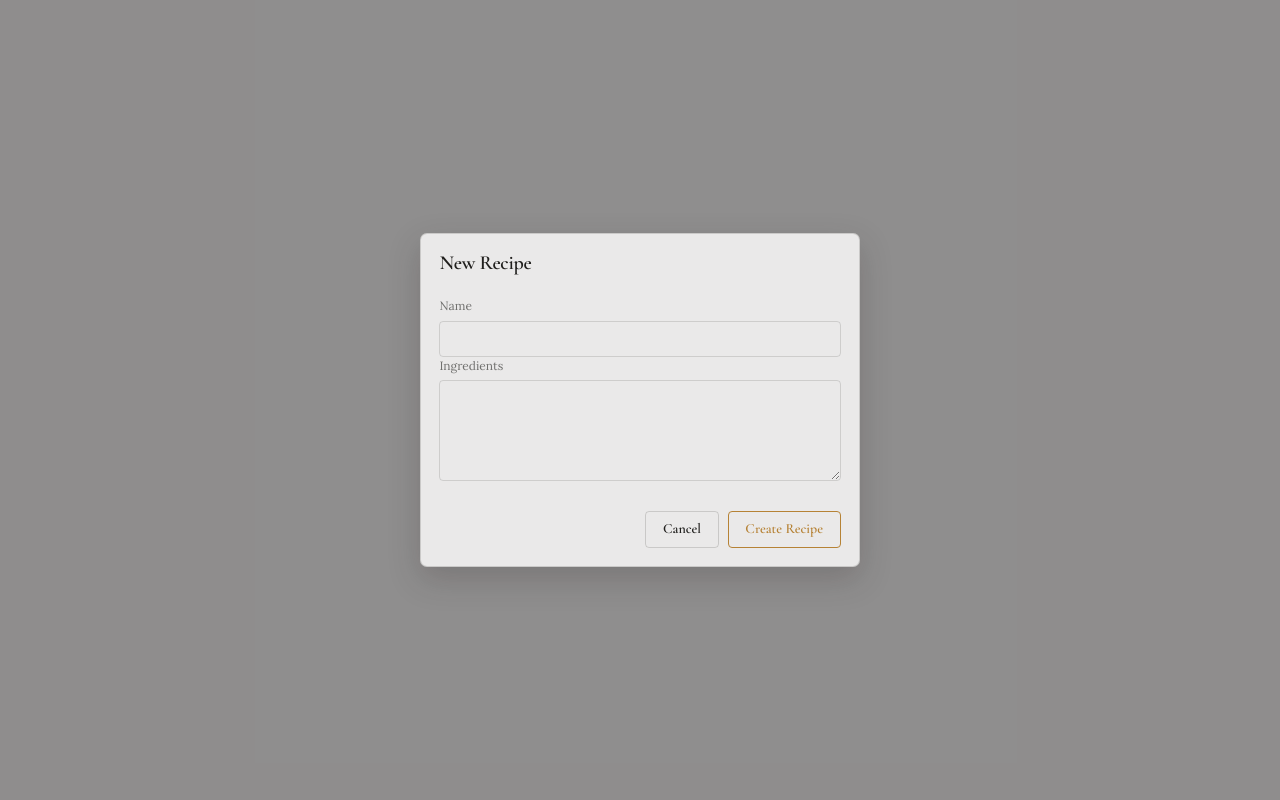
Scenario: NewRecipeModal › requires name and ingredients before submitting
The width and height of the screenshot is (1280, 800).
Click the button "Create Recipe" at [784, 530], box [728,511,841,548]
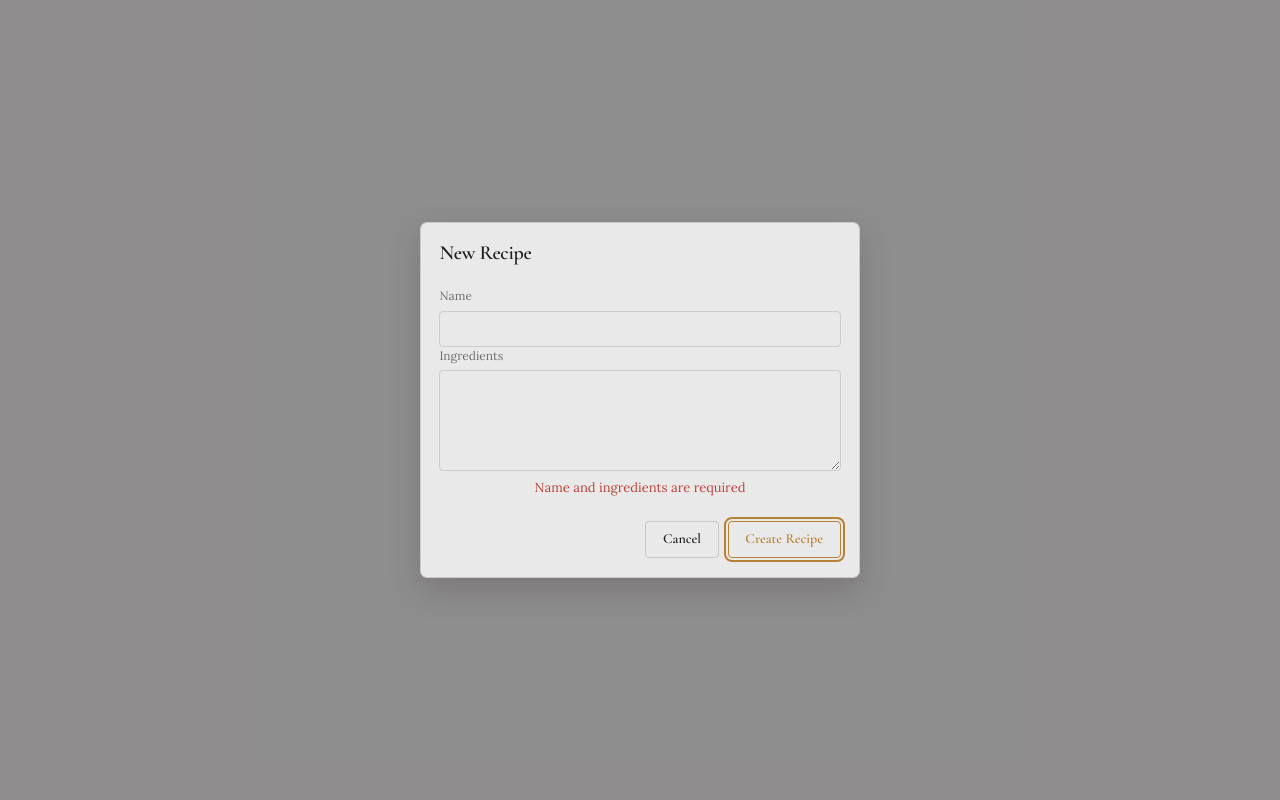
Expected: the text "Name and ingredients are required" is shown, [535,479,745,496]
